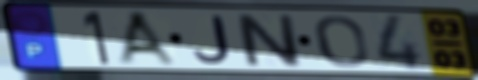1: (81, 10, 113, 66)
4: (373, 13, 428, 72)
A: (114, 9, 182, 68)
J: (191, 14, 234, 65)
N: (232, 12, 306, 69)
O: (312, 14, 372, 69)
